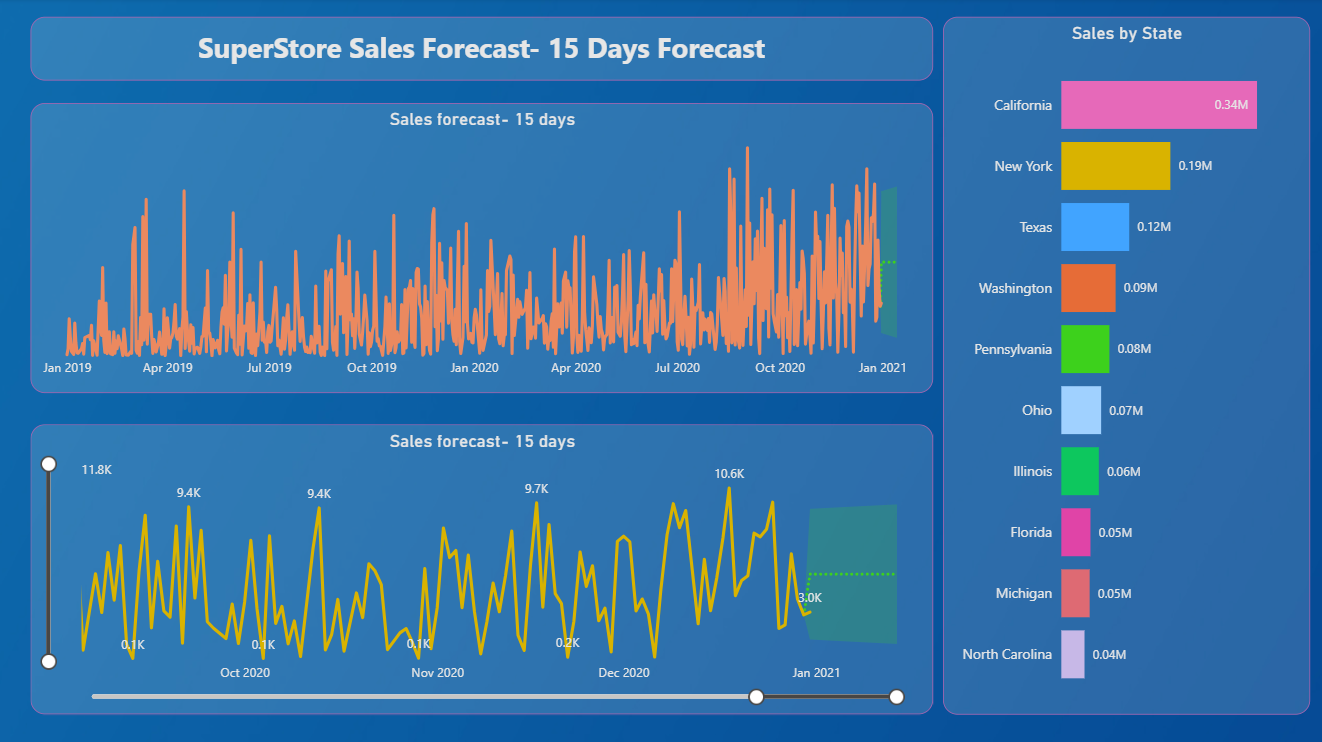

The page's visual inventory and layout, read from the dashboard file:
{"tool":"powerbi","page":{"name":"Page 2","canvas":[1280,720],"ordinal":1},"visuals":[{"type":"lineChart","title":"Sales forecast- 15 days","fields":{"Y":["Sum(SuperStore_Sales_Dataset.Sales)"],"Category":["SuperStore_Sales_Dataset.Order Date"]},"box":[31.4,101.3,871.1,279.9],"z":0},{"type":"textbox","box":[31.4,18.1,871.1,61.5],"z":1000},{"type":"lineChart","title":"Sales forecast- 15 days","fields":{"Y":["Sum(SuperStore_Sales_Dataset.Sales)"],"Category":["SuperStore_Sales_Dataset.Order Date"]},"box":[31.4,411.4,871.1,279.9],"z":2000},{"type":"clusteredBarChart","title":"Sales by State","fields":{"Category":["SuperStore_Sales_Dataset.State"],"Y":["Sum(SuperStore_Sales_Dataset.Sales)"]},"box":[912.5,17.8,354,673.8],"z":3000}]}

Visuals, with their boxes in screenshot pixels (x1, y1, x2, y2), scaled from the page's 1280x720 canvas onto the 1322x742 screenshot:
"Sales forecast- 15 days" lineChart: (left=32, top=104, right=932, bottom=393)
textbox: (left=32, top=19, right=932, bottom=82)
"Sales forecast- 15 days" lineChart: (left=32, top=424, right=932, bottom=712)
"Sales by State" clusteredBarChart: (left=942, top=18, right=1308, bottom=713)
